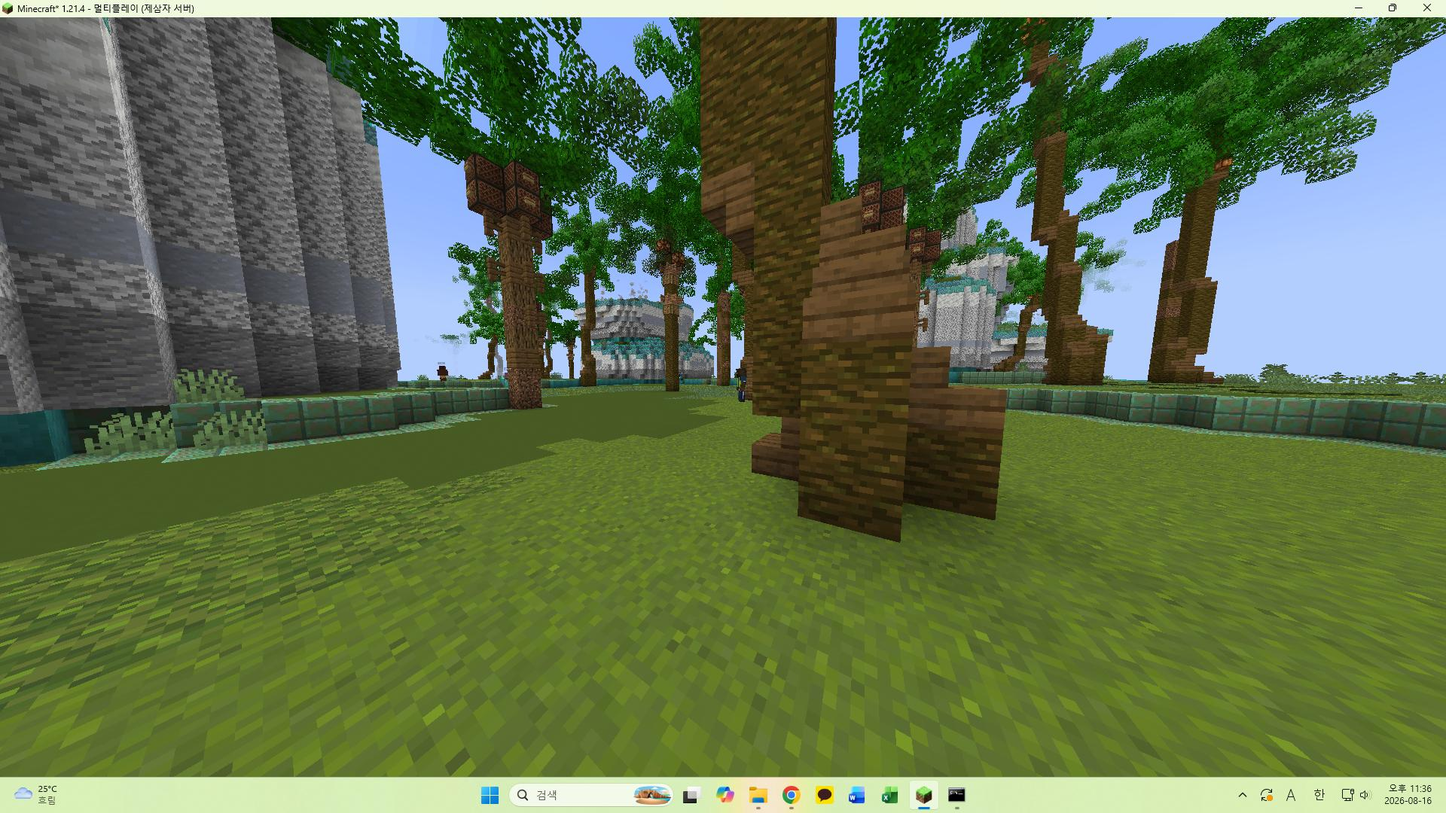Guardian: (735, 357, 752, 401)
